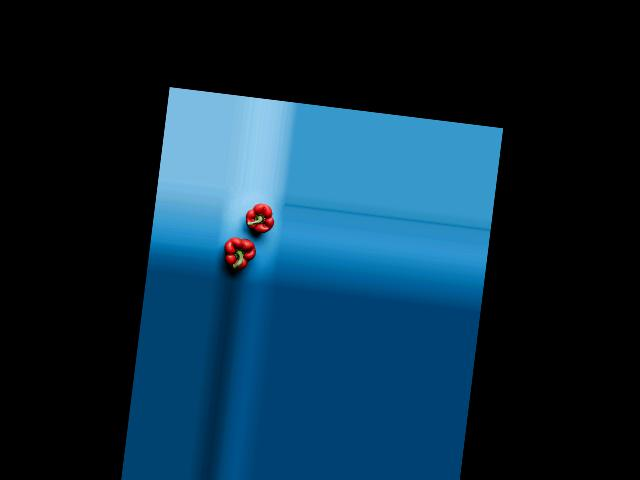bell_pepper: (222, 229, 261, 276)
